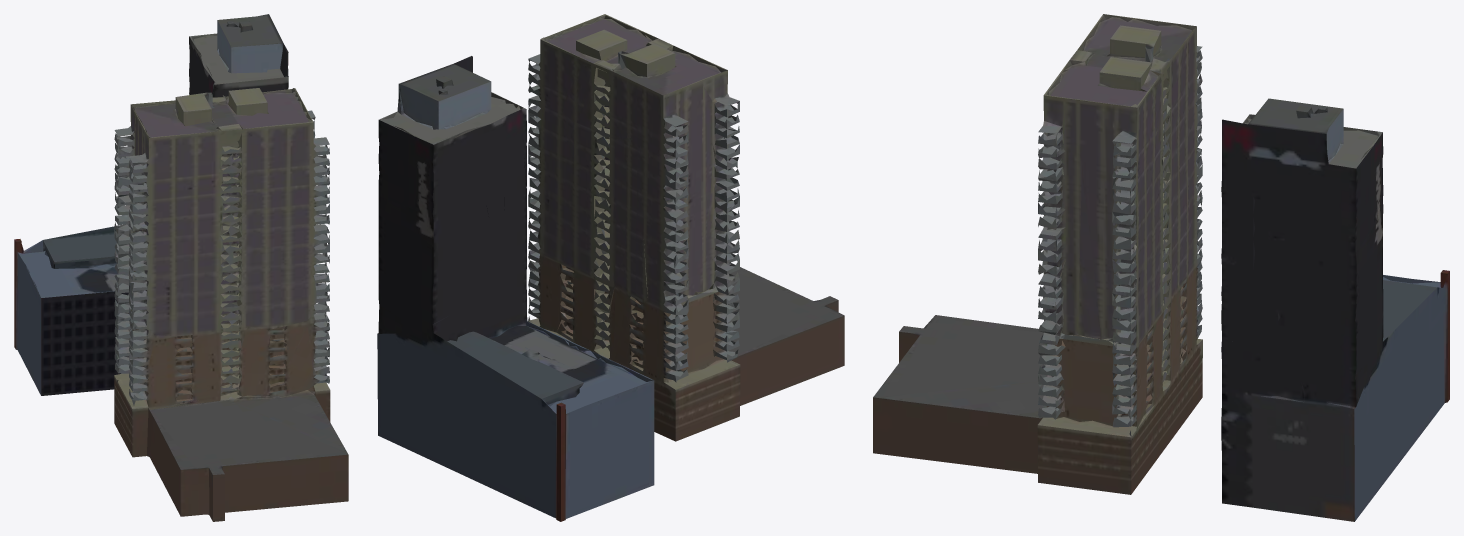
Rendered from t_-1_10.coat.glb.
3 renders of one model, left to right at view 1: azimuth 30°, elevation 25°; view 2: azimuth 150°, elevation 25°; view 3: azimuth 270°, elevation 25°, orthographic. The views are drawn at different scales.
Parts seen in each view (by area): view 1: far; view 2: far; view 3: far.
Part boxes in pixels (x1,y1,x2,y2): far: [14, 14, 348, 521]; far: [377, 14, 844, 521]; far: [873, 14, 1449, 521].
Bounding box in the file's own units: 100 × 121 × 161.
Materials: 1 (1 with a texture image).
